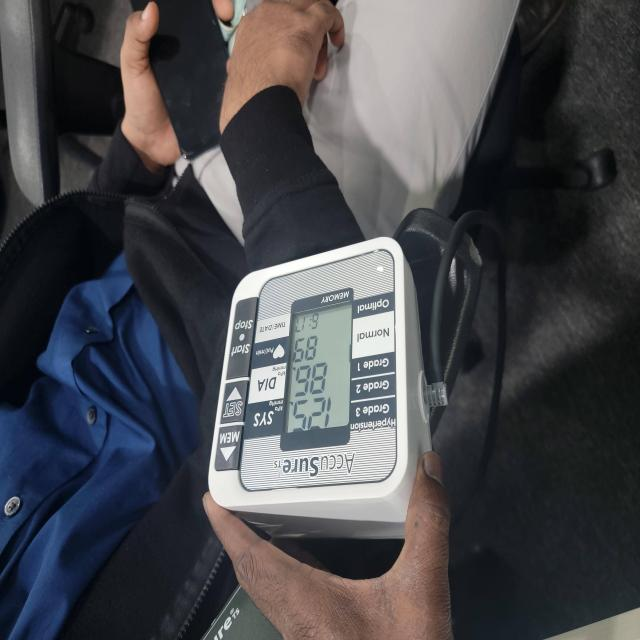bp: (207, 237, 429, 552)
